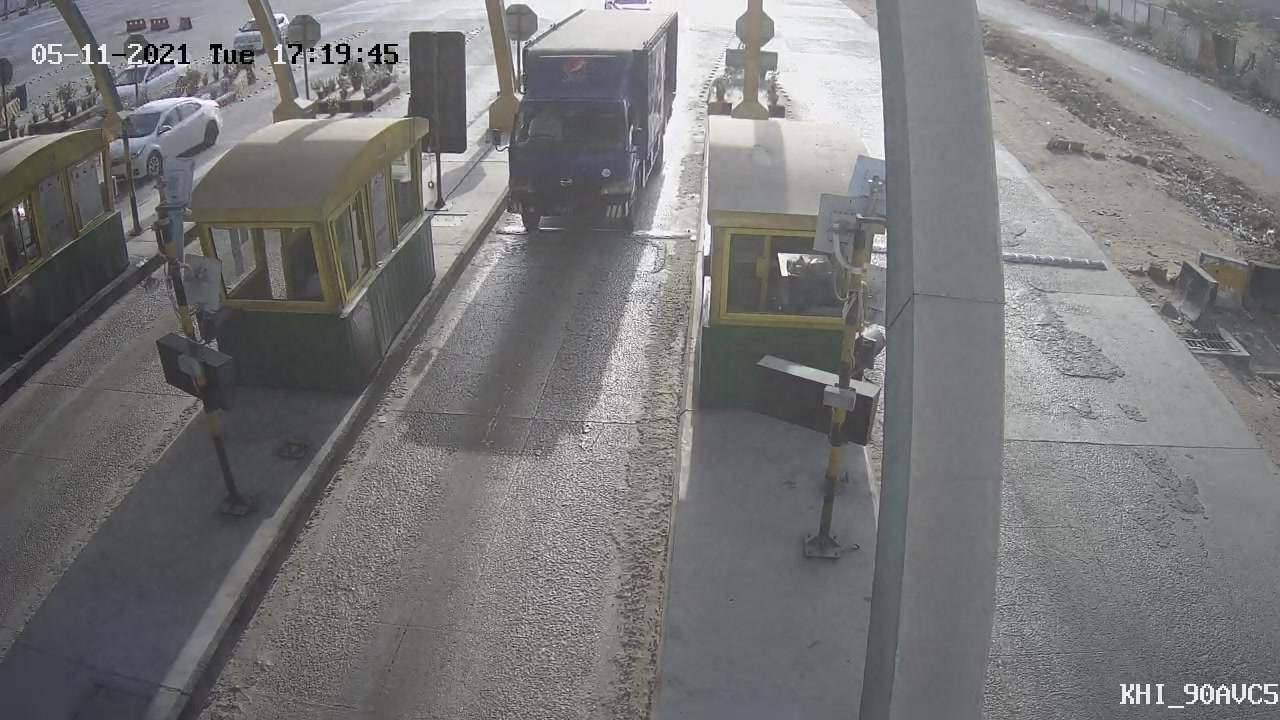F5: (469, 5, 699, 261)
